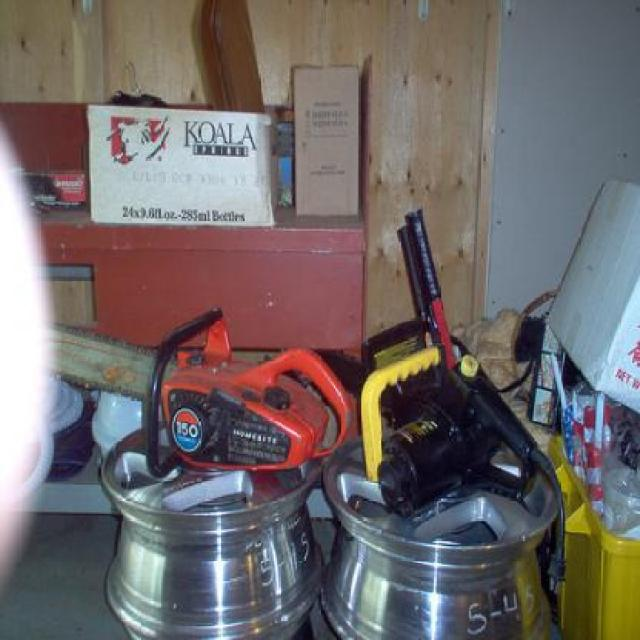Chainsaw: (48, 303, 354, 480)
